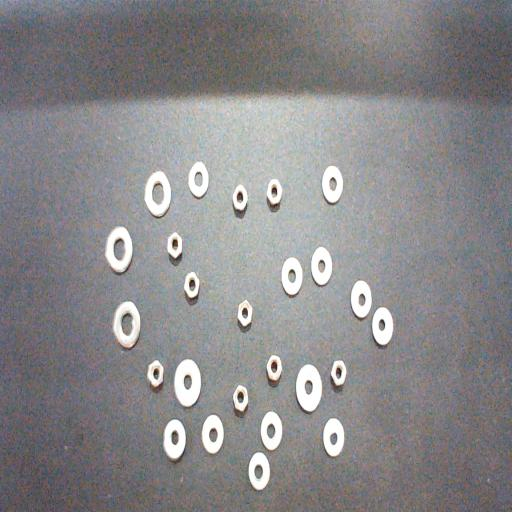nut: (184, 271, 200, 299), (148, 360, 164, 387), (331, 360, 347, 386), (232, 185, 248, 211), (267, 356, 282, 382), (167, 232, 182, 258), (267, 179, 282, 205), (238, 300, 252, 327), (234, 385, 248, 412)
washer: (174, 358, 201, 408), (144, 171, 171, 217), (296, 365, 322, 412), (114, 301, 140, 348), (106, 228, 132, 273), (163, 420, 186, 460), (372, 306, 394, 346), (202, 414, 224, 454), (323, 418, 345, 457), (261, 411, 282, 451), (248, 453, 270, 491), (351, 280, 372, 318), (322, 166, 343, 203), (311, 247, 332, 284), (188, 162, 209, 198), (282, 258, 302, 295)
